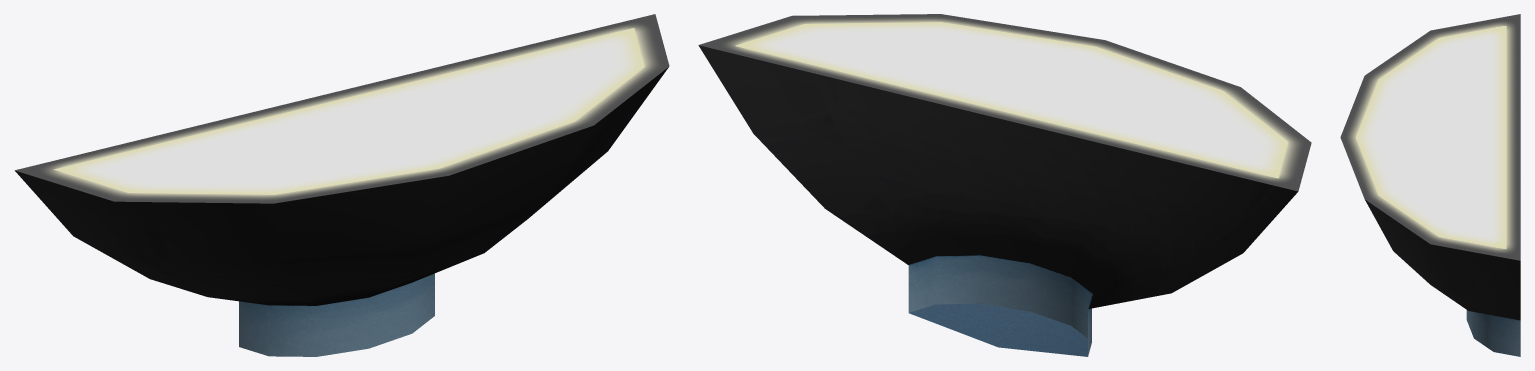
The model's file is Sun_0069_Wall_uplights.fbx.
3 views of the same model, side by side, from view 1: azimuth 30°, elevation 25°; view 2: azimuth 150°, elevation 25°; view 3: azimuth 270°, elevation 25° (orthographic). The views are drawn at different scales.
Parts seen in each view (by area): view 1: Sun_0069_Wall_uplights; view 2: Sun_0069_Wall_uplights; view 3: Sun_0069_Wall_uplights.
Boxes of the visible parts, x1,y1,x2,y2 form: Sun_0069_Wall_uplights: (14, 14, 669, 356); Sun_0069_Wall_uplights: (698, 14, 1311, 356); Sun_0069_Wall_uplights: (1340, 14, 1520, 356).
Size of the model in its own units: 57.92 by 21.13 by 17.87.
